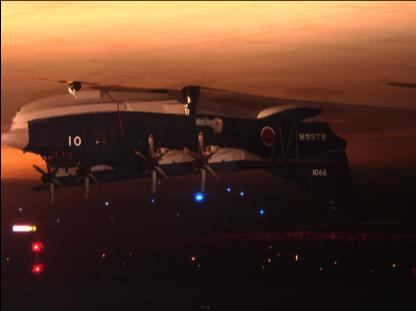Tu95: (1, 81, 400, 230)
